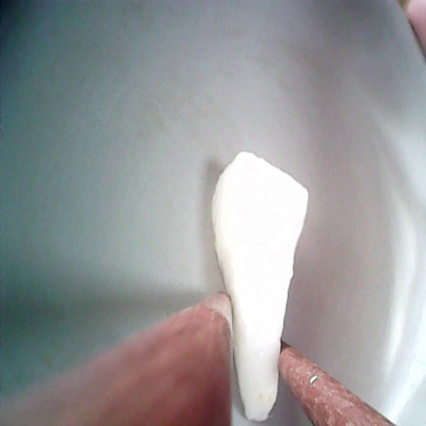white_chinese-yam: (203, 148, 323, 426)
